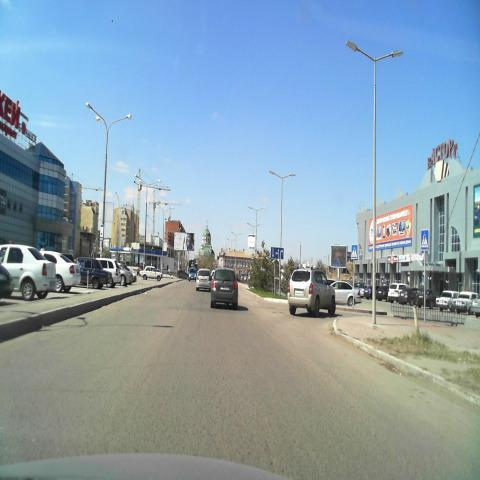5_19_1: (421, 229, 429, 250)
